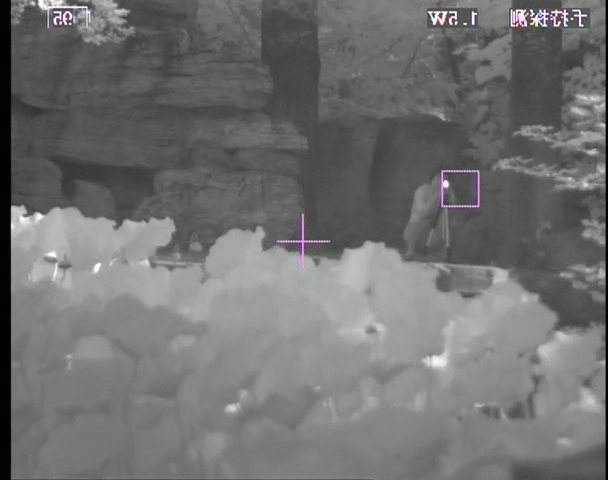my: (441, 178, 452, 189)
